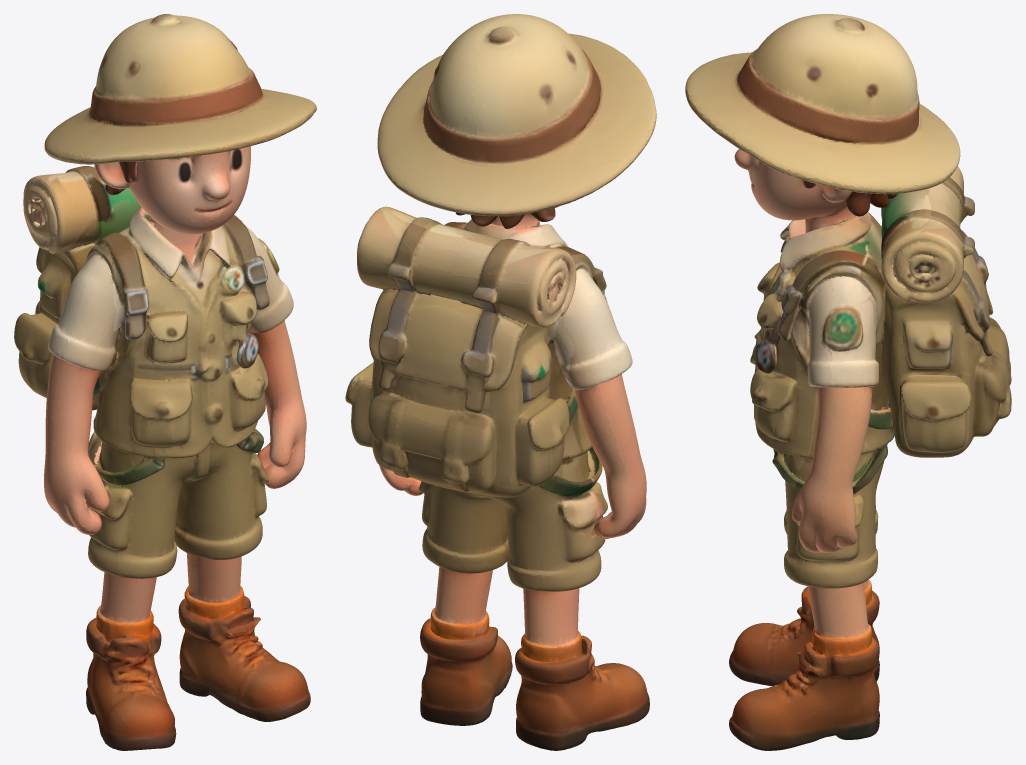
File: human_01-static-v001.glb
The picture shows the model from 3 angles, left to right: view 1: azimuth 30°, elevation 25°; view 2: azimuth 150°, elevation 25°; view 3: azimuth 270°, elevation 25°; orthographic projection. The views are drawn at different scales.
Visible parts, largest first — view 1: geometry_0; view 2: geometry_0; view 3: geometry_0.
Part boxes in pixels (<box>): geometry_0: <box>14,14,316,750</box>; geometry_0: <box>345,14,656,750</box>; geometry_0: <box>685,14,1011,750</box>.
Bounding box in the file's own units: 0.0587 × 0.15 × 0.0649.
1 material, 1 textured.
